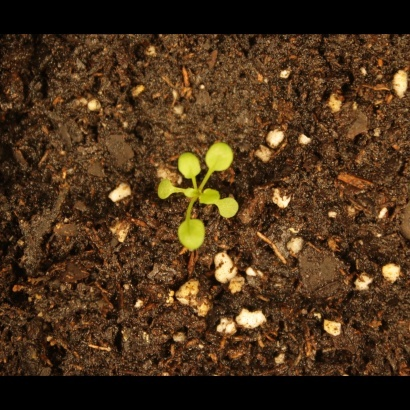leaf: (175, 219, 212, 252), (205, 139, 237, 175), (173, 152, 205, 183), (215, 192, 244, 226), (151, 175, 178, 202), (196, 184, 222, 209)
